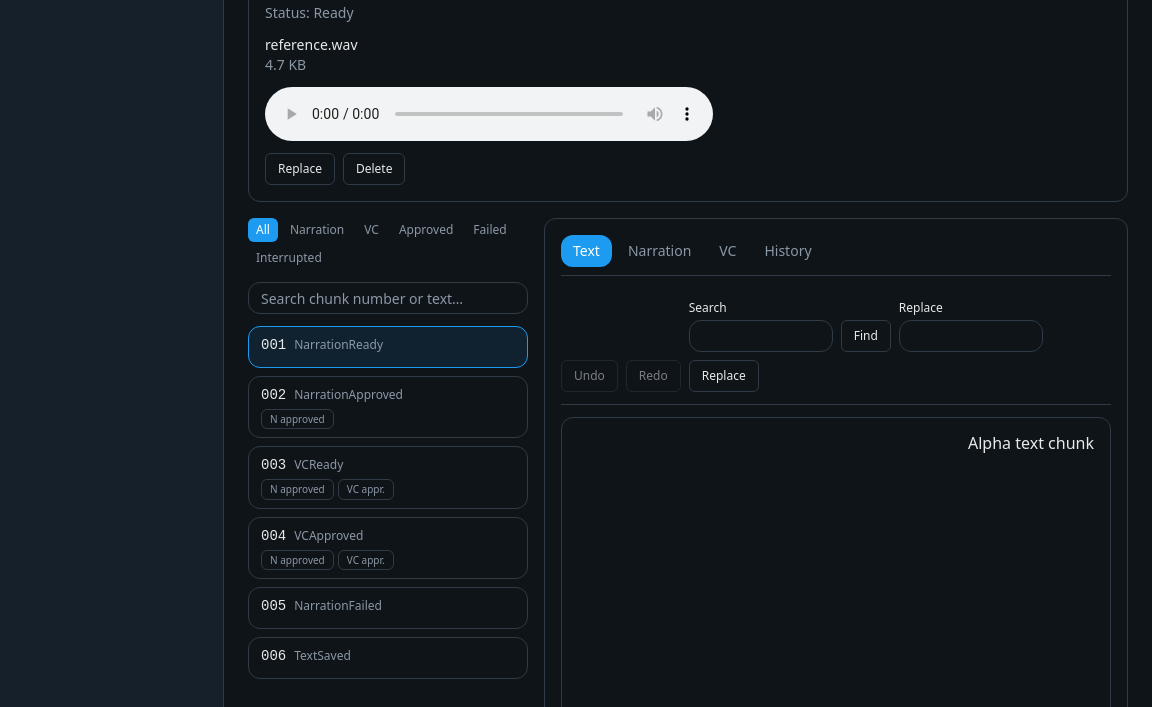
E8.1-C Part Workspace › 8. approve narration when ready
This screenshot has width=1152, height=707.
(page scrolled)
Click the button with test id "chunk-row-1".
click(339, 344)  # box [248,326,528,368]
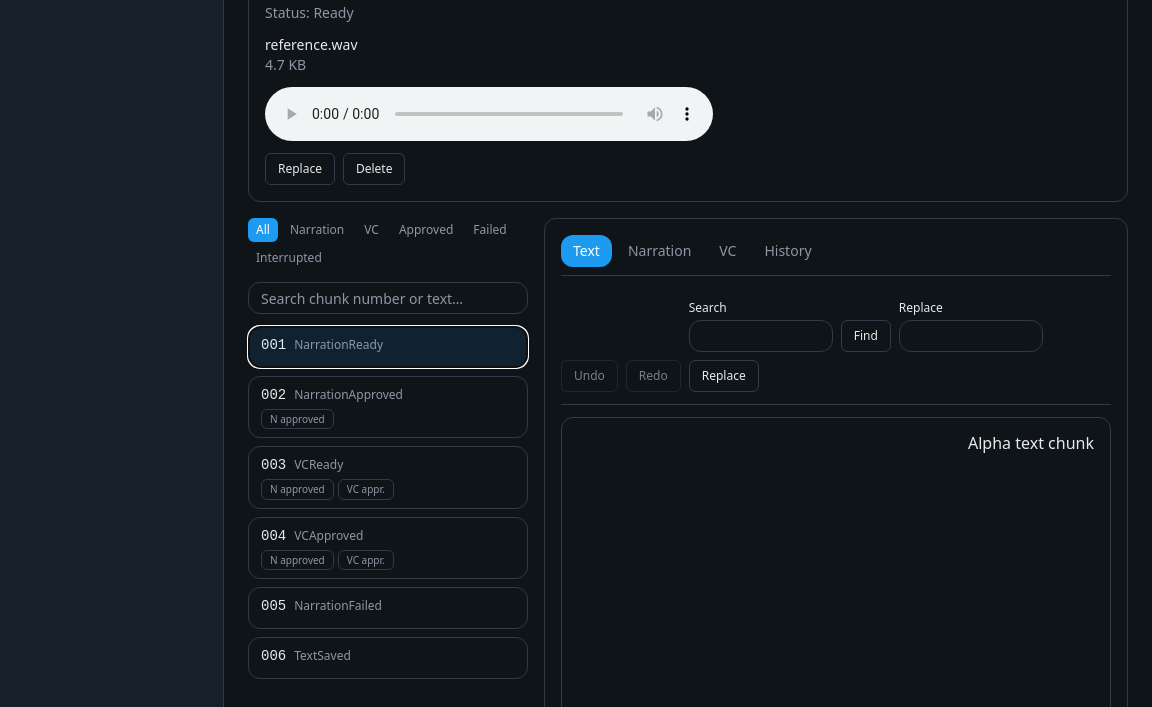
Click the tab "Narration".
click(660, 251)  # box [616,235,703,267]
(page scrolled)
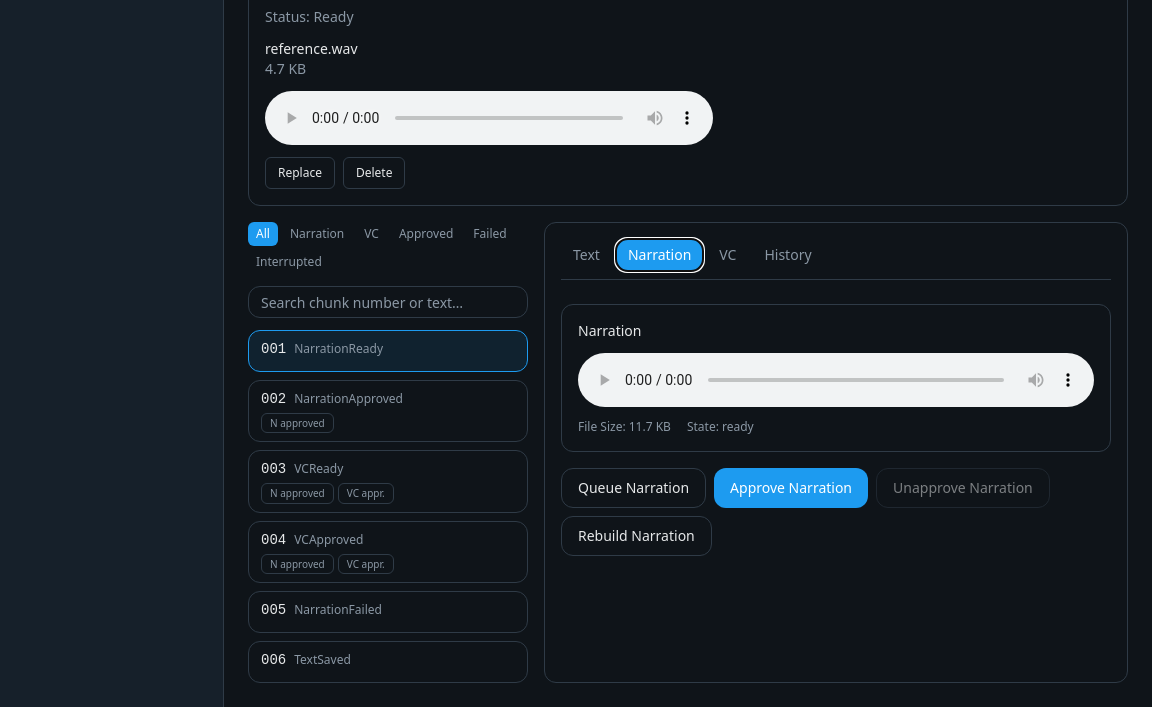
Click the button "Approve Narration".
click(791, 488)  # box [714,468,868,508]
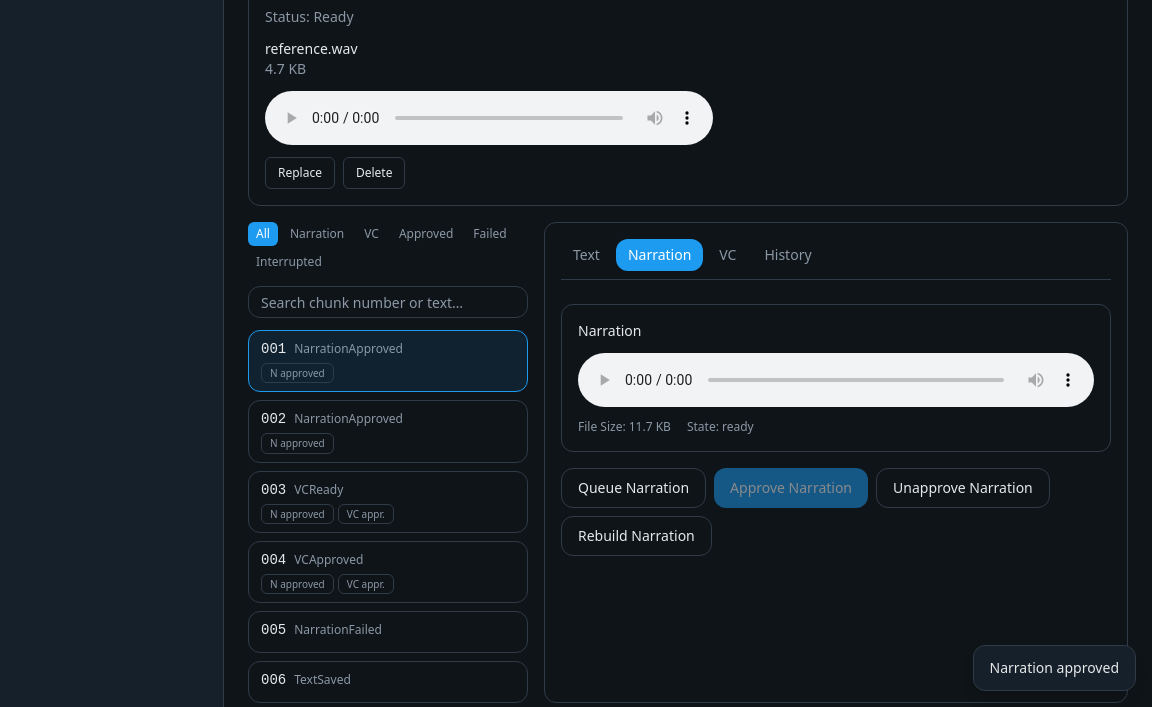
Result: the text "Narration approved" is shown at [990,658,1119,678]
